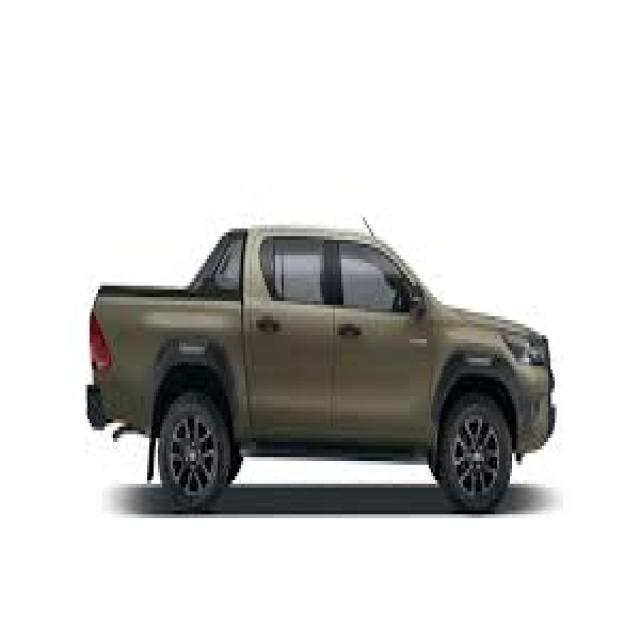Pickup Trucks: (85, 221, 557, 518)
